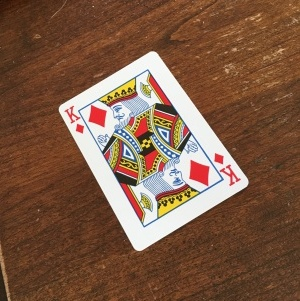card: (58, 50, 252, 251)
